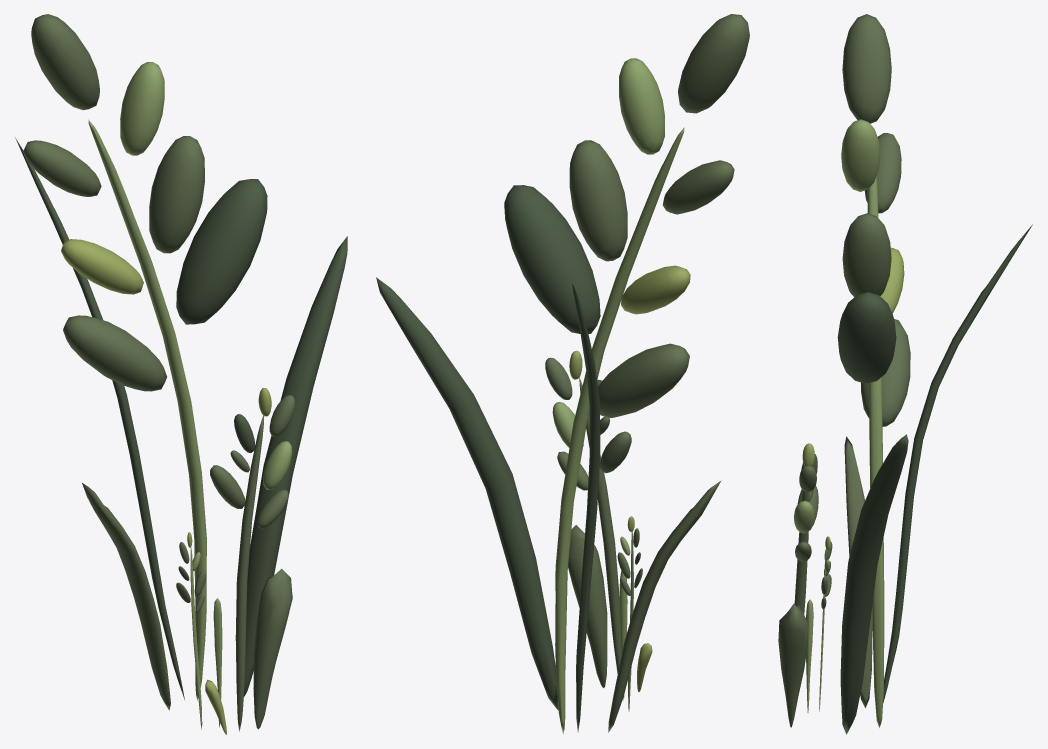
The model's file is Weed A.fbx.
3 views of the same model, side by side, from view 1: azimuth 30°, elevation 25°; view 2: azimuth 150°, elevation 25°; view 3: azimuth 270°, elevation 25° (orthographic). The views are drawn at different scales.
Visible parts, largest first — view 1: Weed_A4; view 2: Weed_A4; view 3: Weed_A4.
Boxes of the visible parts, <box> form: Weed_A4: <box>15,14,347,734</box>; Weed_A4: <box>376,14,749,734</box>; Weed_A4: <box>778,14,1032,734</box>.
Bounding box in the file's own units: 18 × 37.34 × 13.41.
